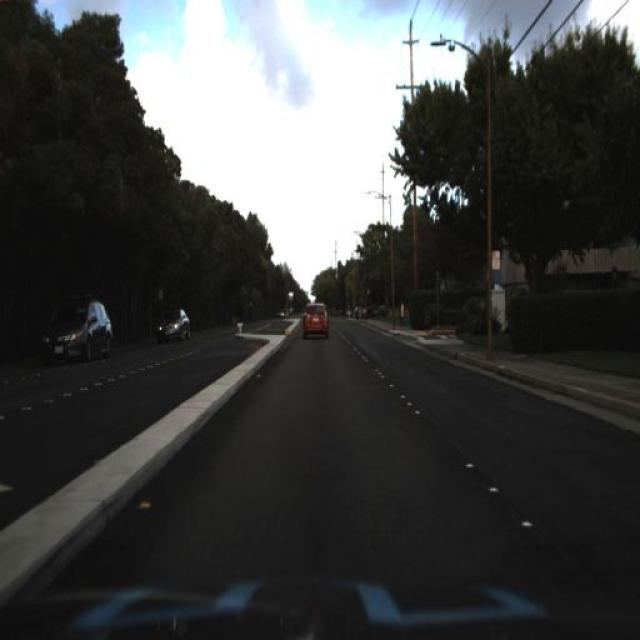car: (38, 296, 114, 366), (151, 298, 191, 346), (299, 297, 329, 339), (155, 306, 189, 342)
trafficLight: (399, 299, 405, 330)
